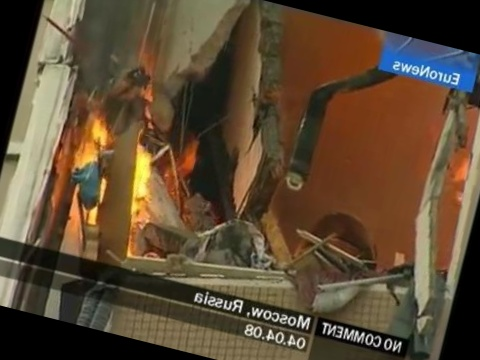fire: (54, 95, 174, 230)
